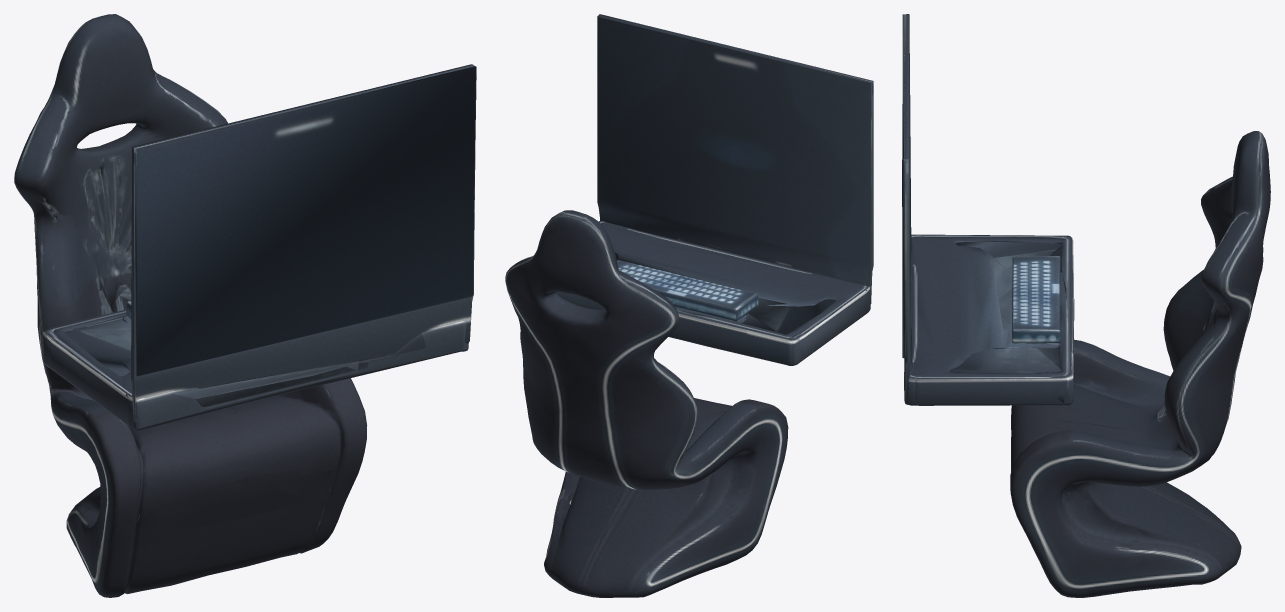
Rendered from hub.glb.
The picture shows the model from 3 angles, left to right: view 1: azimuth 30°, elevation 25°; view 2: azimuth 150°, elevation 25°; view 3: azimuth 270°, elevation 25°; orthographic projection. The views are drawn at different scales.
Bounding box in the file's own units: 0.6623 × 1 × 0.7078.
Materials: 1 (1 with a texture image).
